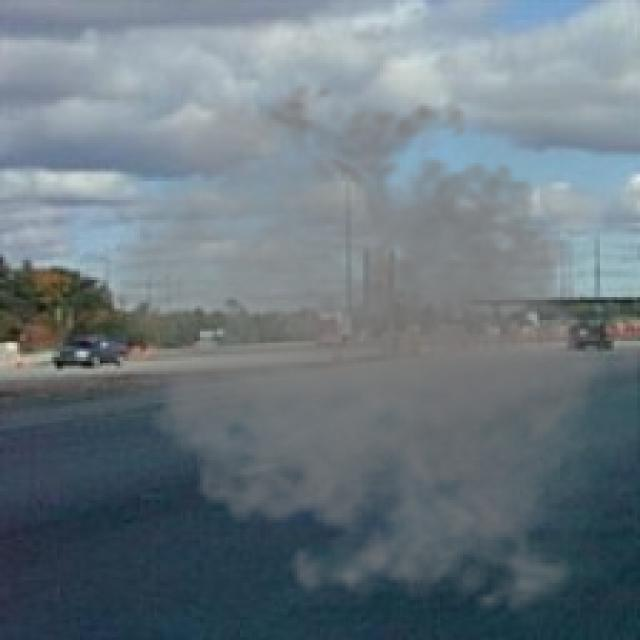Smoke: (72, 71, 638, 628)
